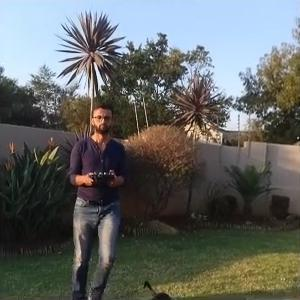follow: (65, 103, 132, 298)
